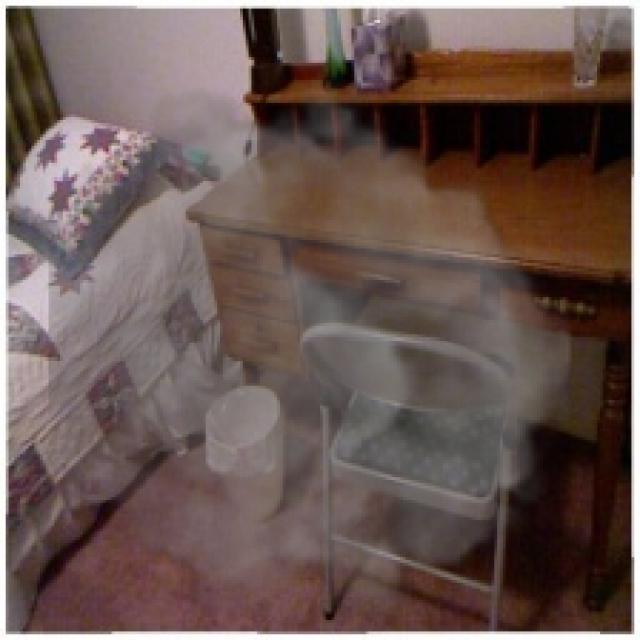smoke: (49, 69, 572, 634)
